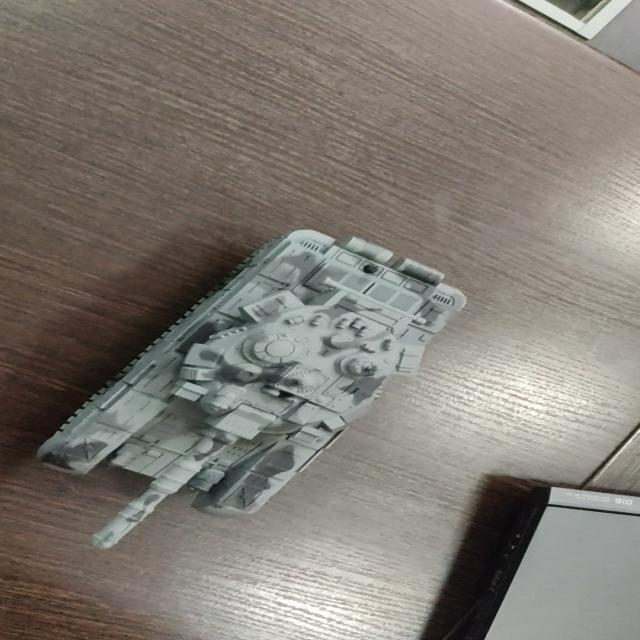tank: (28, 220, 478, 558)
